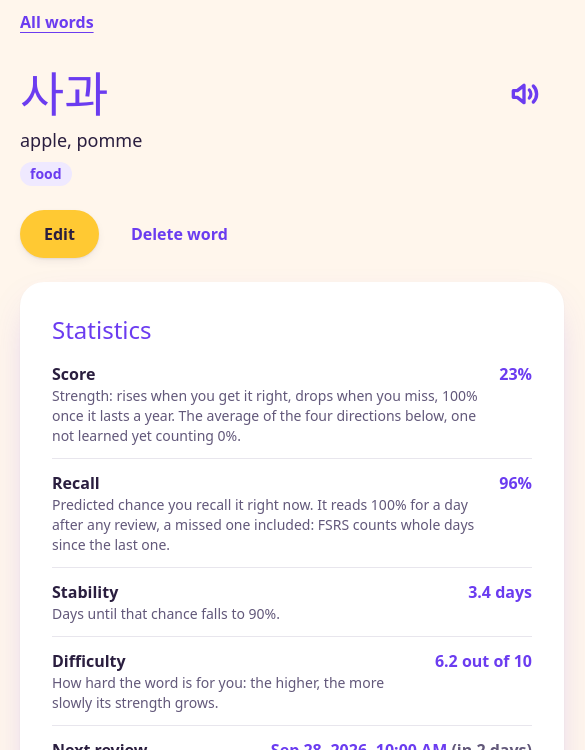
it: a refused save shows the backends message and keeps the form open with what was typed
Step 1. Click the button "Edit" → (59, 234), box top-left (20, 210), bottom-right (99, 258)
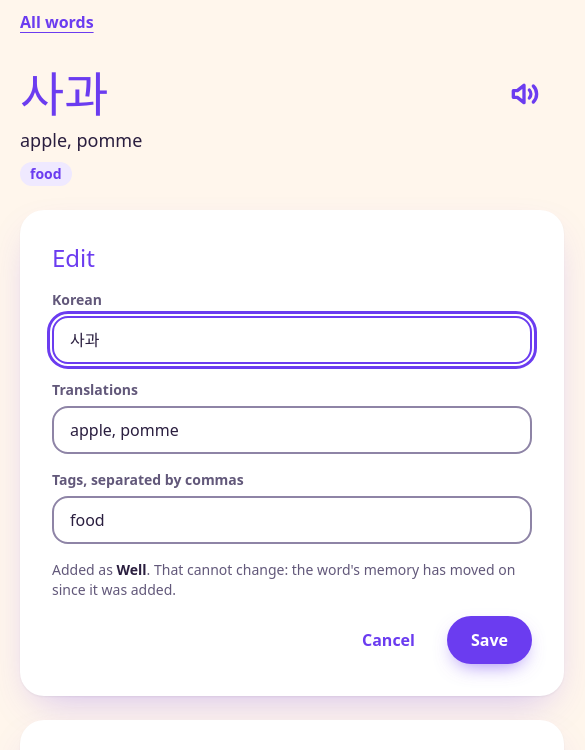
Step 2. Replace the text in the field labelled "Korean" with "학교" → (292, 340), box top-left (52, 316), bottom-right (532, 364)
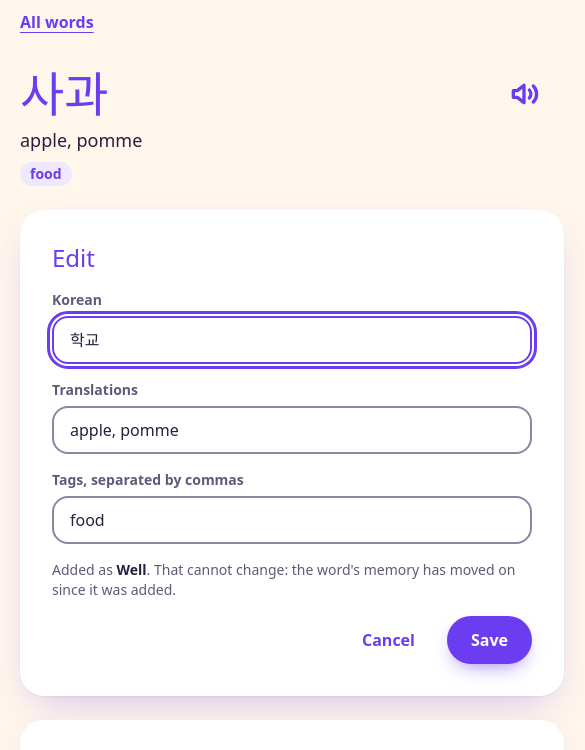
Step 3. Click the button "Save" → (490, 640), box top-left (447, 616), bottom-right (532, 664)
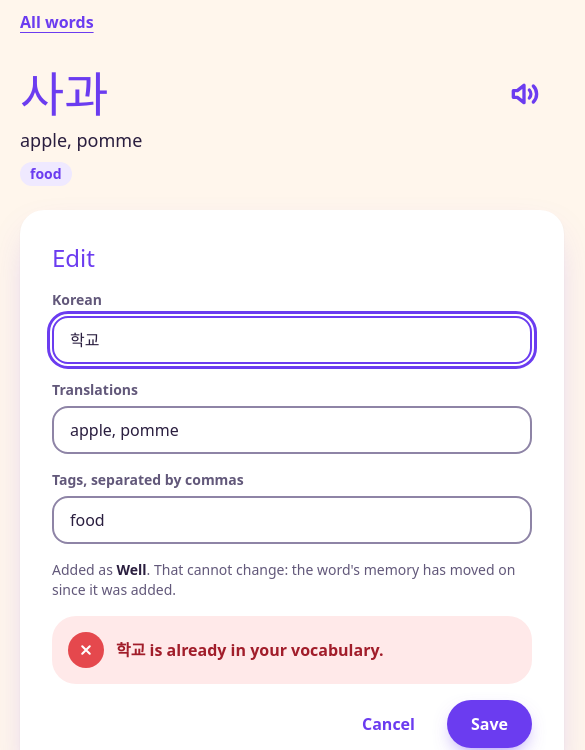
expect the button "Save" is shown: met, box top-left (447, 700), bottom-right (532, 748)
expect the message reads "학교 is already in your vocabulary.": met, box top-left (116, 639), bottom-right (384, 661)
